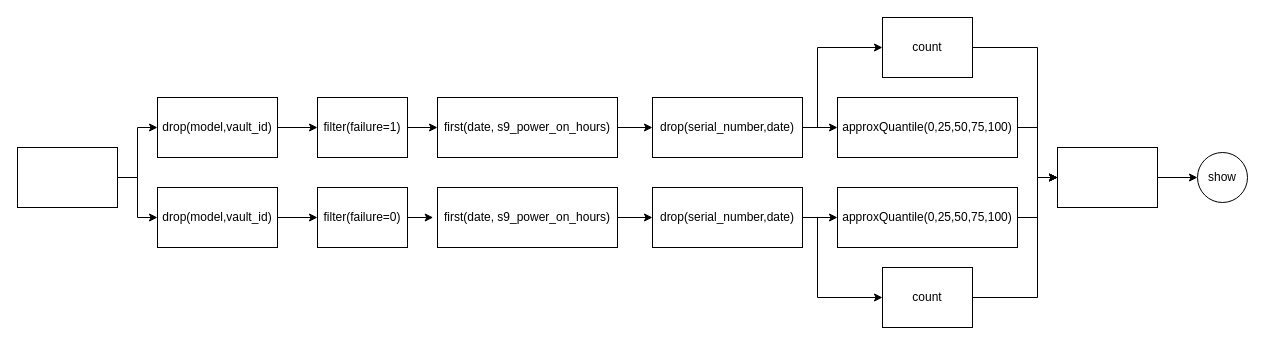
Some shapes in this 1265 by 345 pixel diagram are drawn without their labels. Each missing label, with the box of its shape:
createDataframe: (1056, 146, 1158, 208)
read(hdfs_path): (16, 146, 118, 208)
